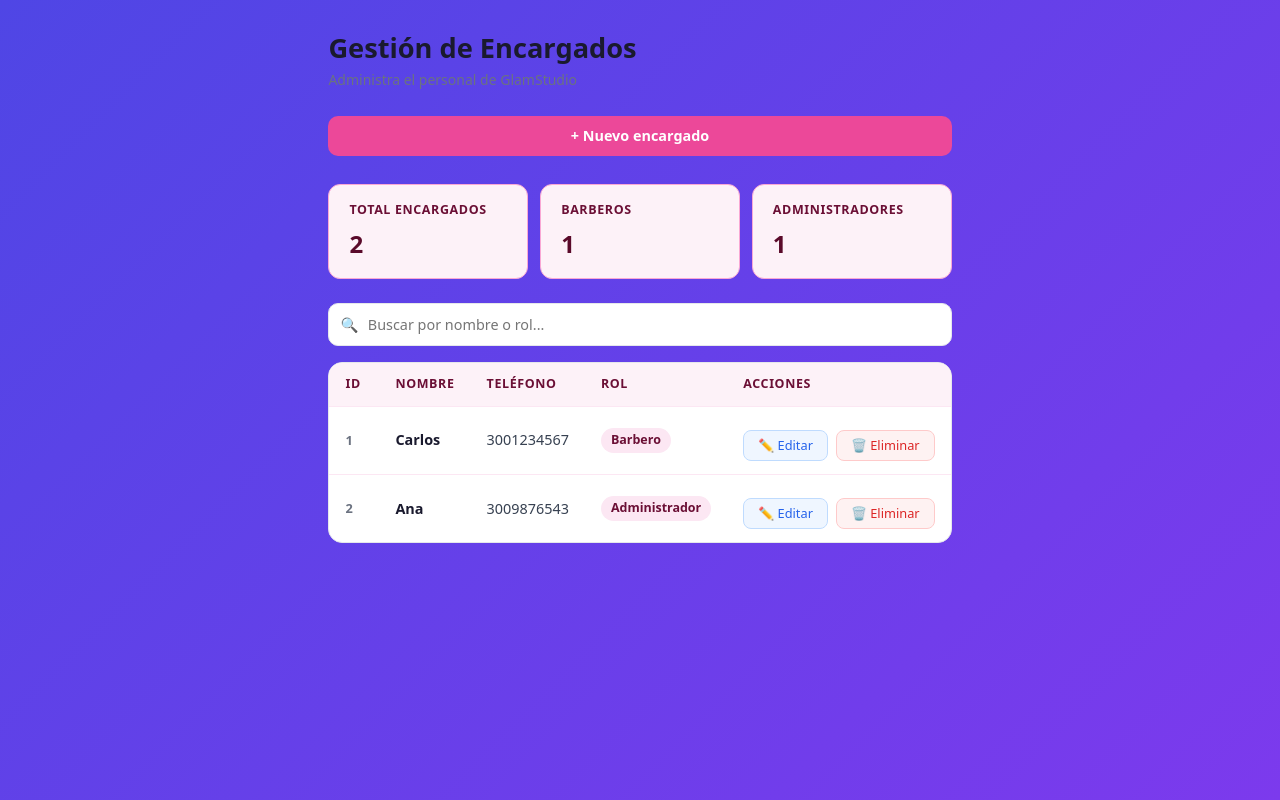
GestionEncargados › filtra encargados por búsqueda
The width and height of the screenshot is (1280, 800).
expect the text "Carlos" is shown: met, box [379,406,471,474]
In the field with placeholder "Buscar por nombre o rol...": {"x": 640, "y": 325} [328,303,952,346], type "Ana"
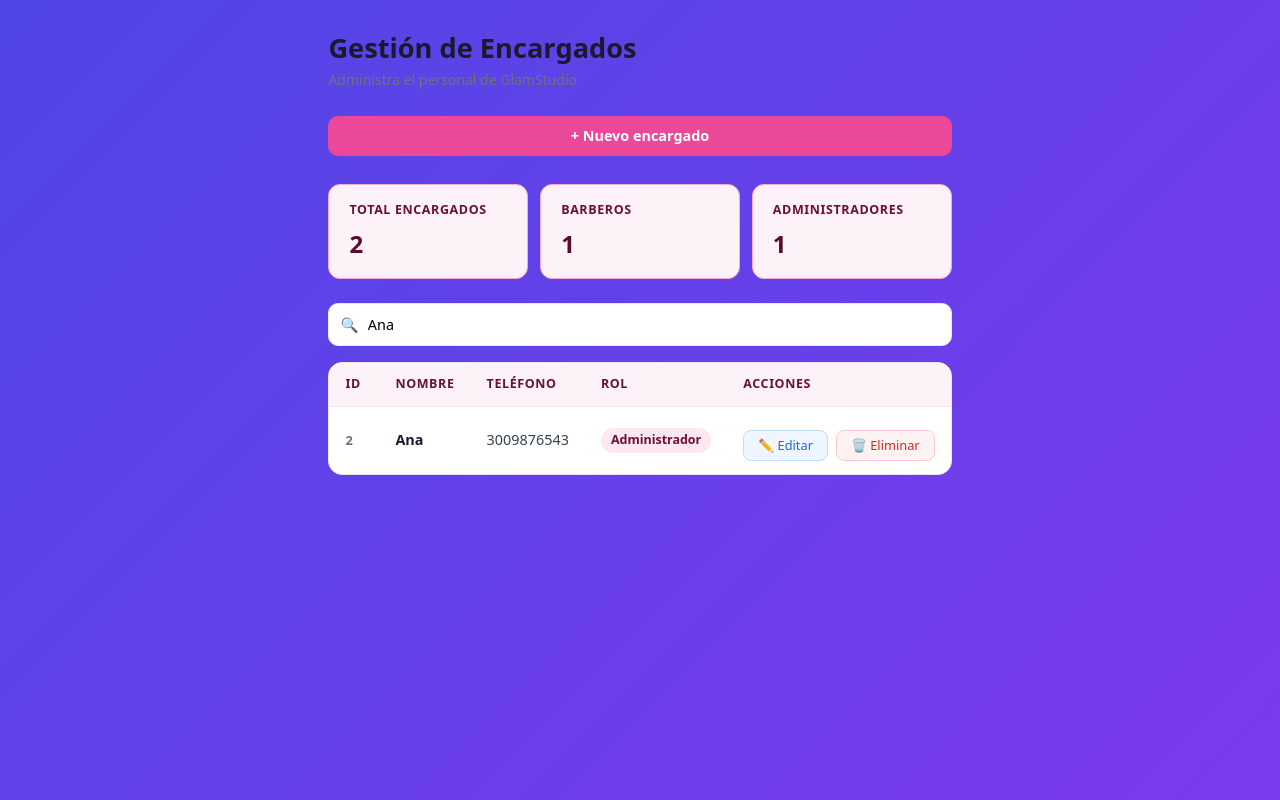
expect the text "Ana" is shown: met, box [379,406,471,474]
expect the text "Carlos" is gone: met
